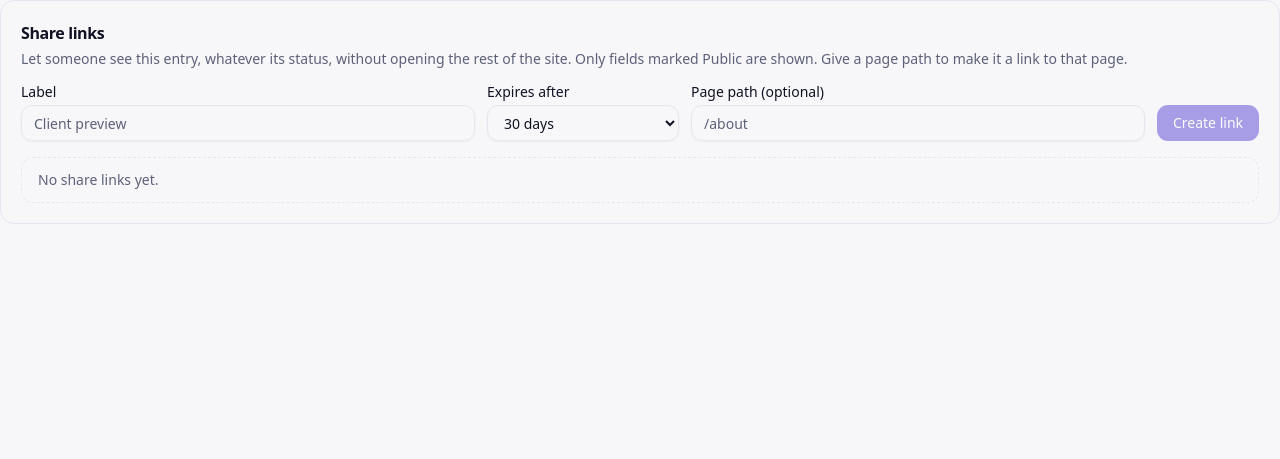
an entry scope › sends no path when none is given, which makes it an entry link
expect the text "No share links yet." is shown: met, box [21, 157, 1259, 203]
In the field labelled "Label": (248, 123) [21, 105, 475, 141], type "Draft"
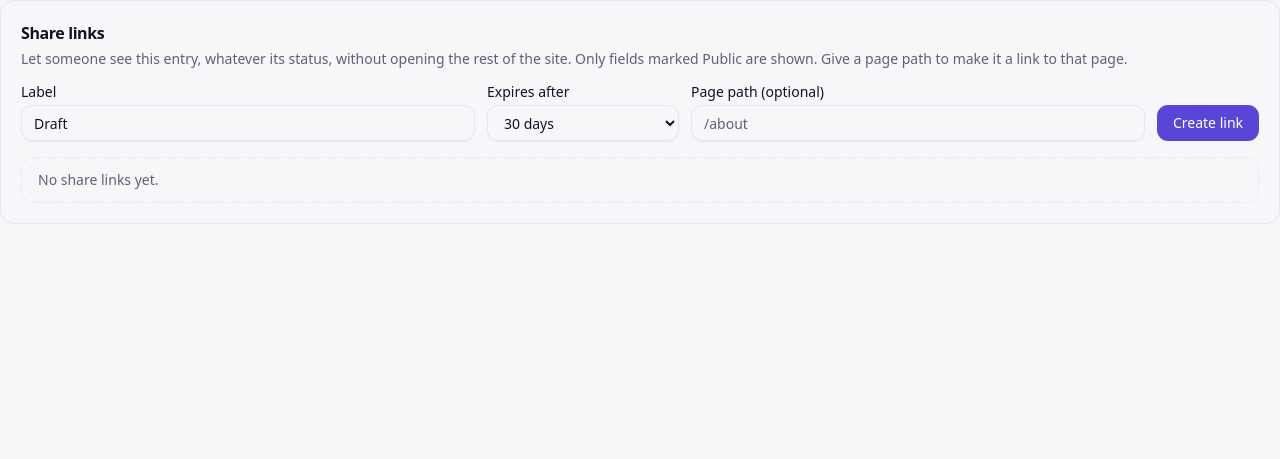
Click the button "Create link": (1208, 123) [1157, 105, 1259, 141]
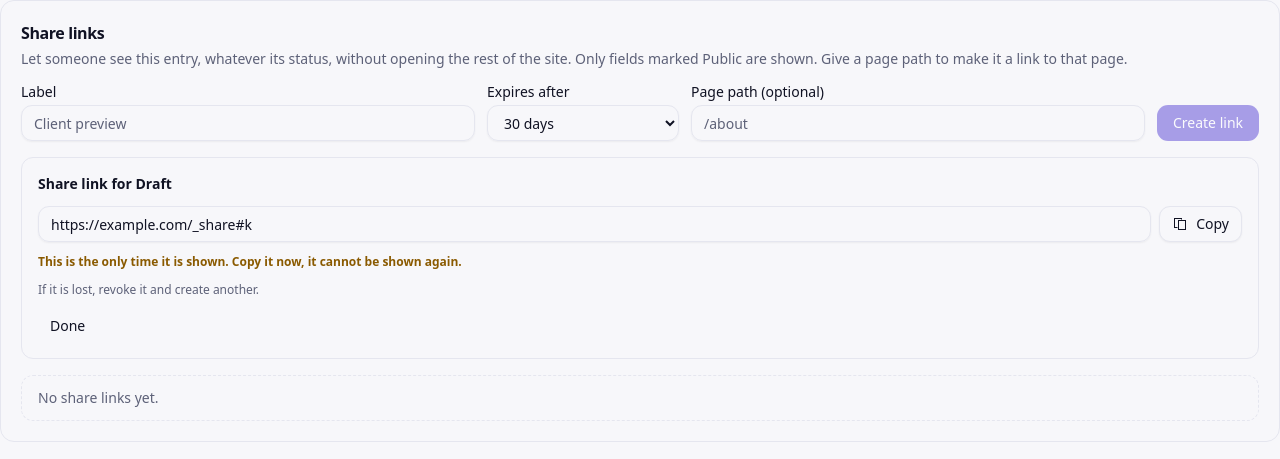
expect the field named "Share link" is shown: met, box [38, 206, 1151, 242]
